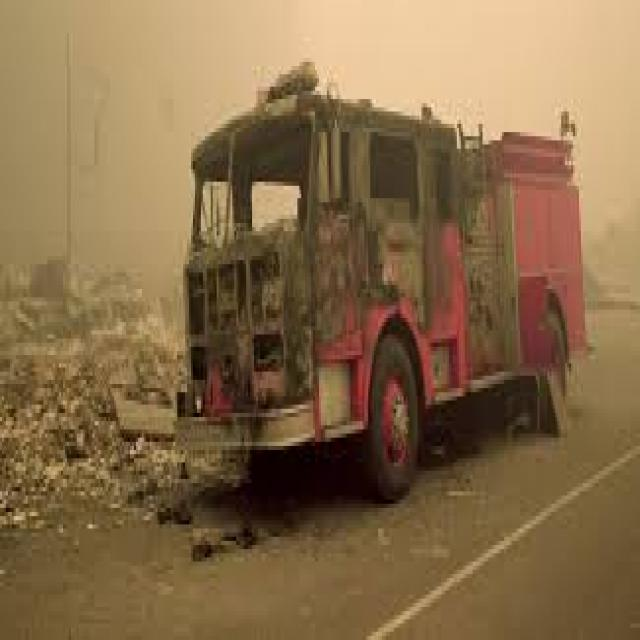Forest Fire: (39, 70, 574, 491)
